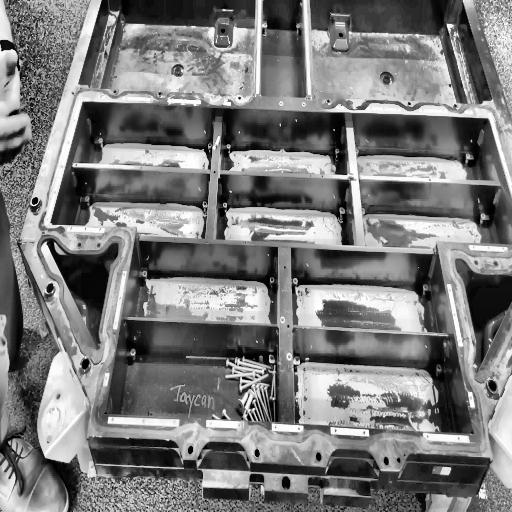b_casing: (19, 0, 512, 470)
